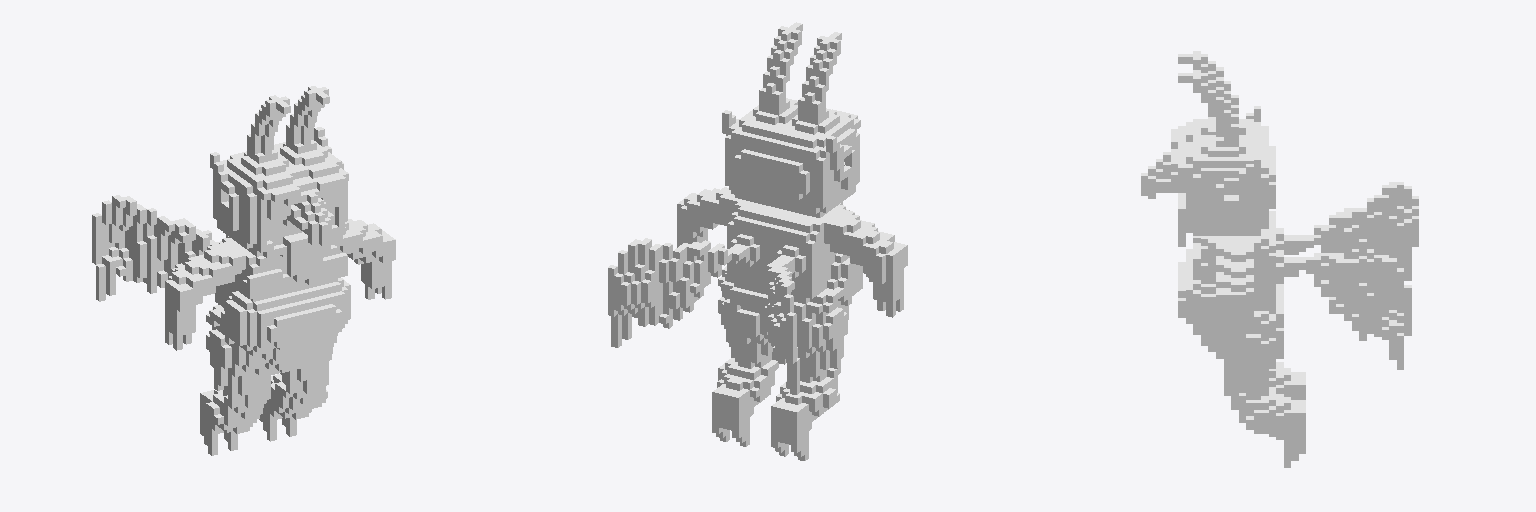
File: Yokai.obj
The picture shows the model from 3 angles: view 1: azimuth 30°, elevation 25°; view 2: azimuth 150°, elevation 25°; view 3: azimuth 270°, elevation 25°; orthographic projection.
Parts seen in each view (by area): view 1: object 1; view 2: object 1; view 3: object 1.
Boxes of the visible parts, <box> form: object 1: <box>92,86,395,455</box>; object 1: <box>608,22,907,460</box>; object 1: <box>1141,51,1418,467</box>.
Size of the model in its own units: 3.3 by 5.6 by 3.7.